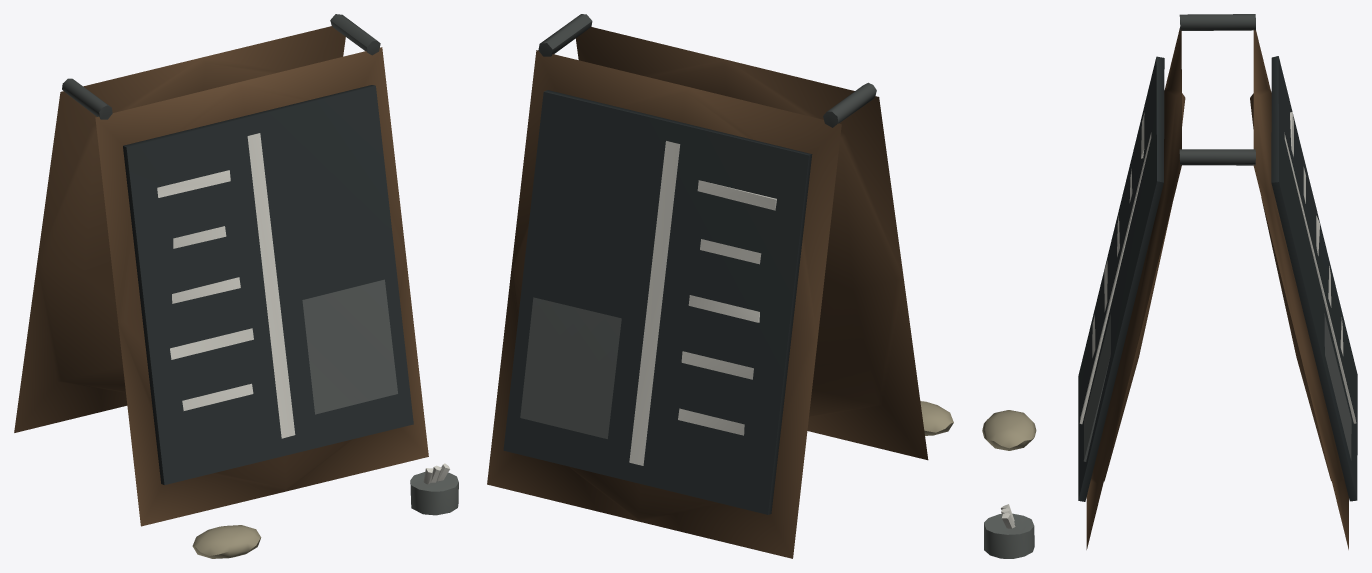
The model's file is shift_board_a_lod2.glb.
The picture shows the model from 3 angles, left to right: view 1: azimuth 30°, elevation 25°; view 2: azimuth 150°, elevation 25°; view 3: azimuth 270°, elevation 25°; orthographic projection. The views are drawn at different scales.
Parts seen in each view (by area): view 1: Surface.001; view 2: Surface.001; view 3: Surface.001.
Part boxes in pixels (x1,y1,x2,y2): Surface.001: [14, 14, 458, 558]; Surface.001: [487, 14, 953, 558]; Surface.001: [982, 14, 1357, 558].
Size of the model in its own units: 0.9017 by 1.19 by 0.9896.
